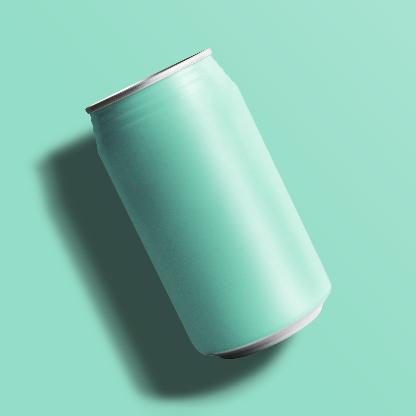Tin_Can: (80, 44, 332, 368)
